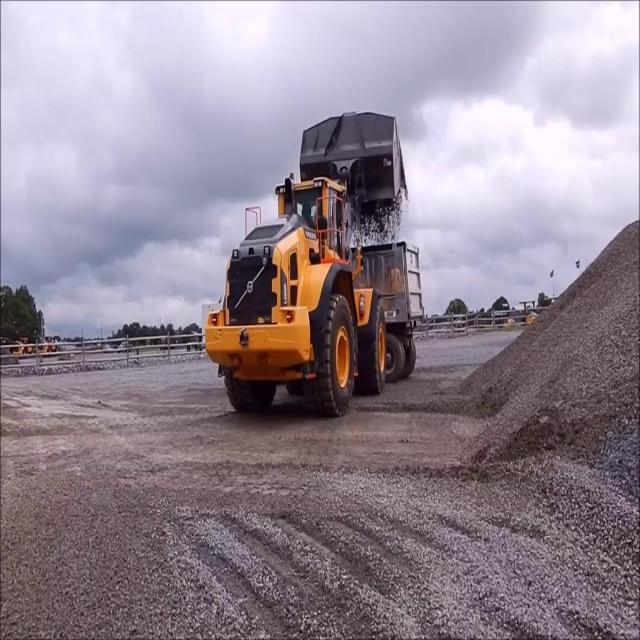buldozerpayloadergrader: (205, 110, 403, 419)
dump_truck: (347, 241, 423, 381)
